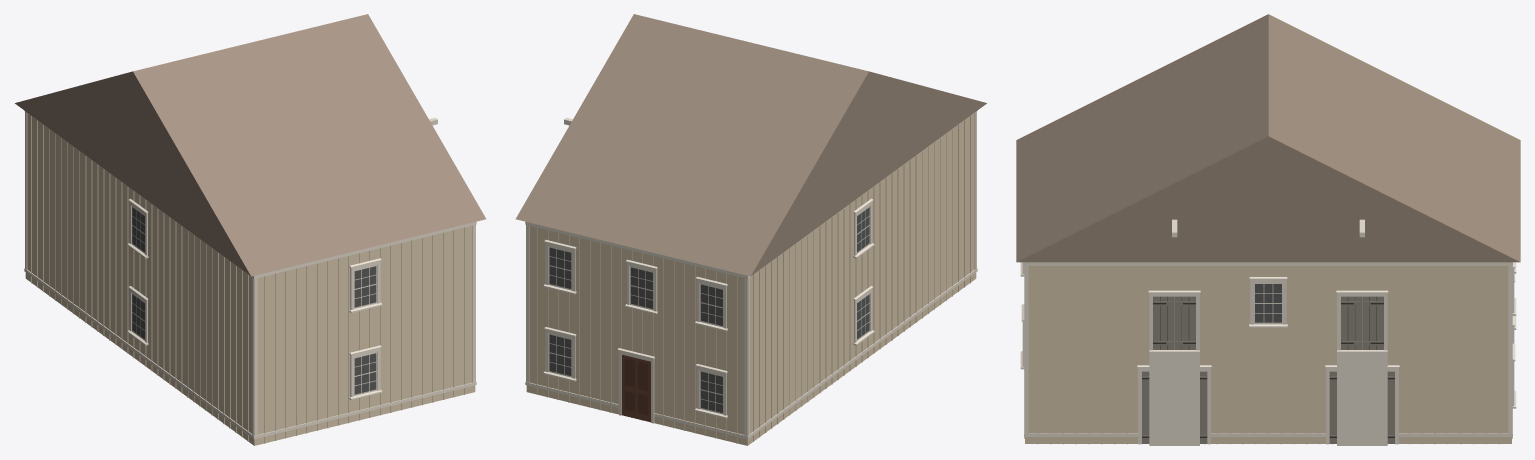
Rendered from recon_1835_blk_south_water_dearborn_f2_11__inferred_1835.glb.
3 renders of one model, left to right at view 1: azimuth 30°, elevation 25°; view 2: azimuth 150°, elevation 25°; view 3: azimuth 270°, elevation 25°, orthographic. The views are drawn at different scales.
Parts seen in each view (by area): view 1: recon_1835_blk_south_water_dearborn_f2_11__inferred_1835; view 2: recon_1835_blk_south_water_dearborn_f2_11__inferred_1835; view 3: recon_1835_blk_south_water_dearborn_f2_11__inferred_1835.
Boxes of the visible parts, <box> form: recon_1835_blk_south_water_dearborn_f2_11__inferred_1835: <box>15,14,486,445</box>; recon_1835_blk_south_water_dearborn_f2_11__inferred_1835: <box>515,14,986,445</box>; recon_1835_blk_south_water_dearborn_f2_11__inferred_1835: <box>1016,14,1520,445</box>.
Bounding box in the file's own units: 9.06 × 9.76 × 14.31.
